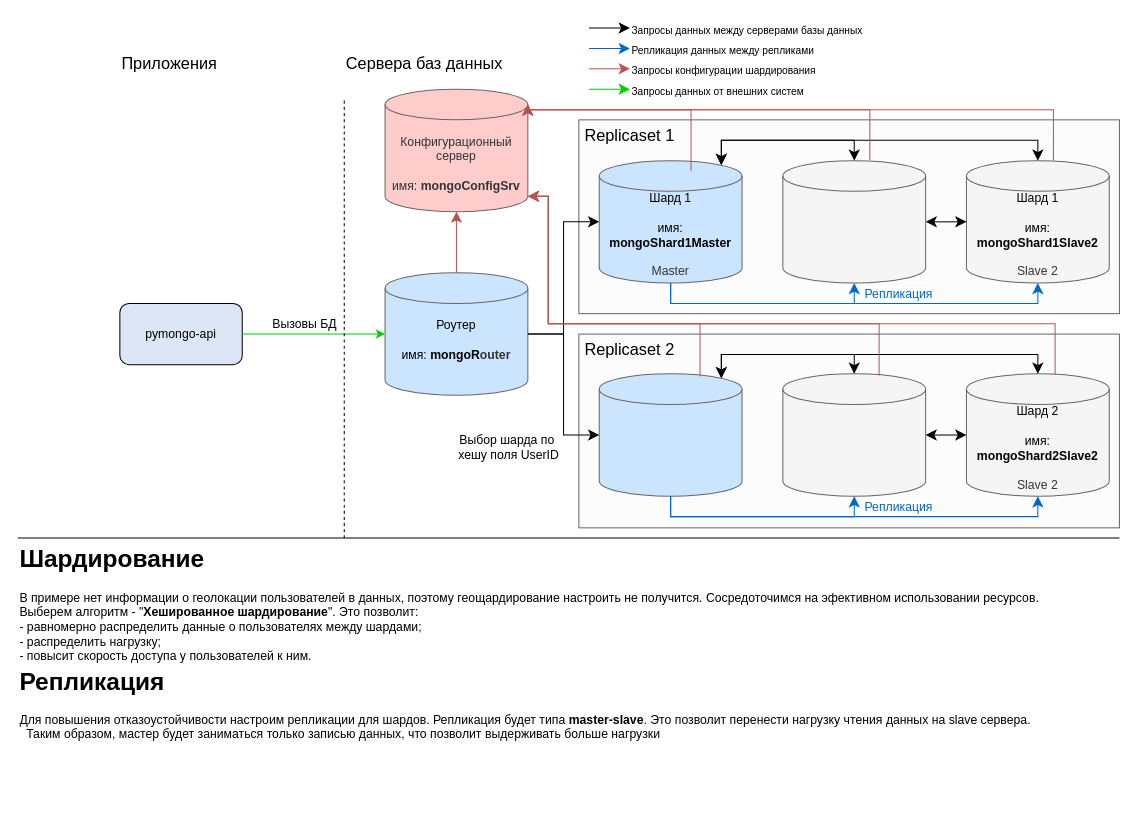
The diagram is 1138 pixels wide and 813 high, and some of its shapes have lost their labels. The box of each missing label's shape, as (x1, y1, x2, y2) in pixels:
Шард 1 имя: mongoShard1Slave1 Slave 1: (782, 160, 926, 283)
Шард 2 имя: mongoShard2Master Master: (598, 373, 742, 496)
Шард 2 имя: mongoShard2Slave1 Slave 1: (782, 373, 926, 496)
